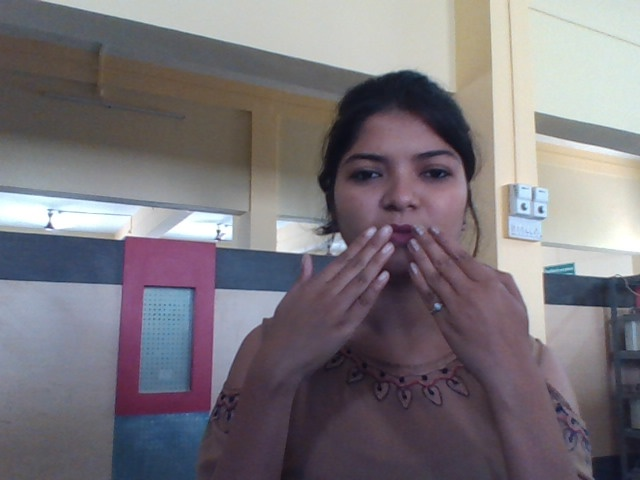thanks: (262, 222, 535, 377)
